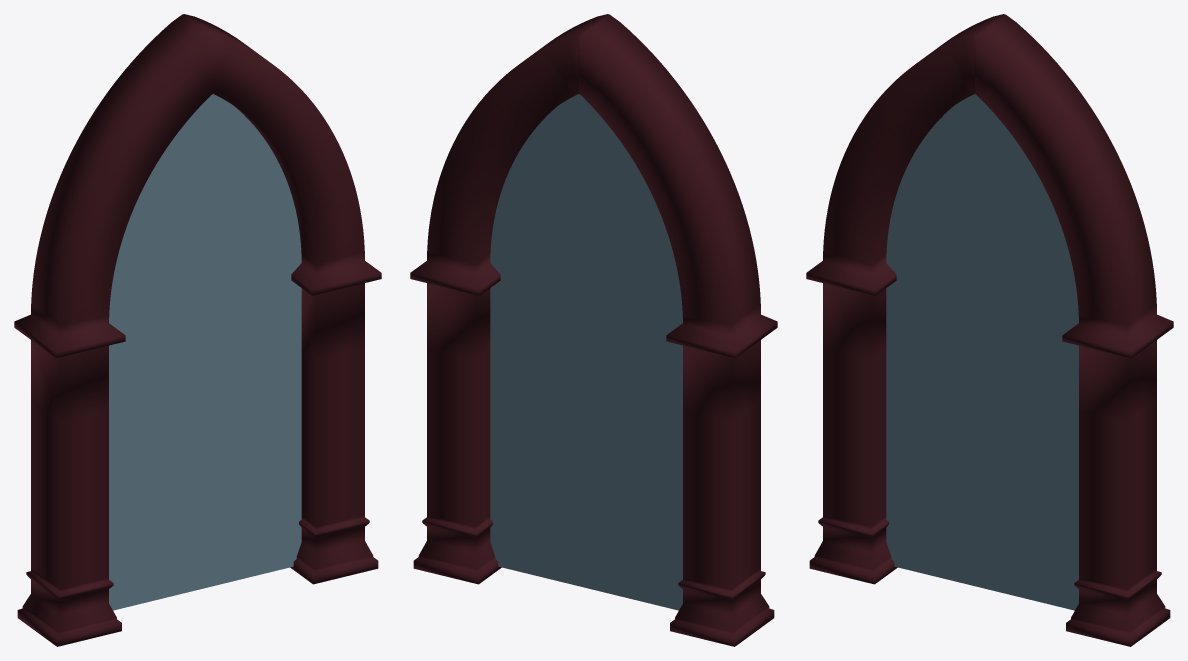
File: Window.fbx
The picture shows the model from 3 angles, left to right: view 1: azimuth 30°, elevation 25°; view 2: azimuth 150°, elevation 25°; view 3: azimuth 330°, elevation 25°; orthographic projection.
Visible parts, largest first — view 1: Window; view 2: Window; view 3: Window.
Part boxes in pixels (<box>): Window: <box>14,14,381,646</box>; Window: <box>410,14,777,646</box>; Window: <box>806,14,1173,646</box>.
Size of the model in its own units: 101 by 168 by 22.57.
